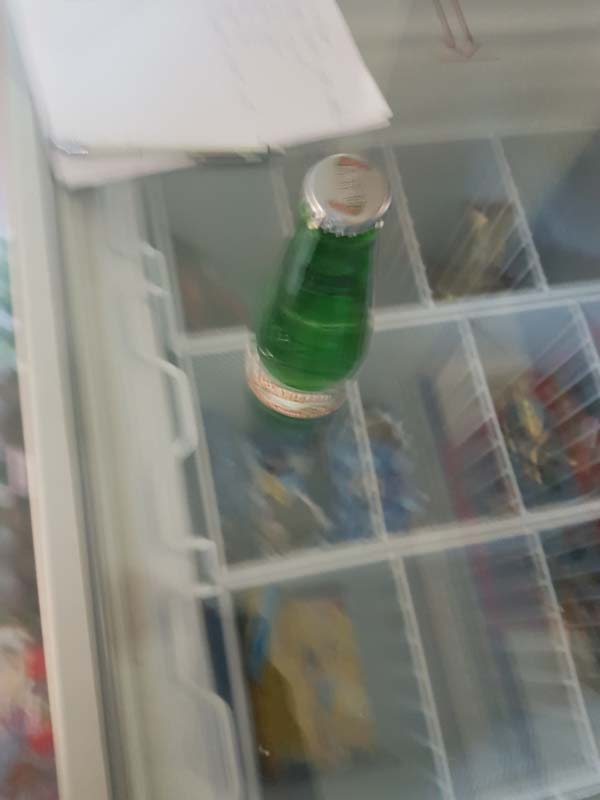beypazarimadensuyu: (247, 147, 399, 431)
